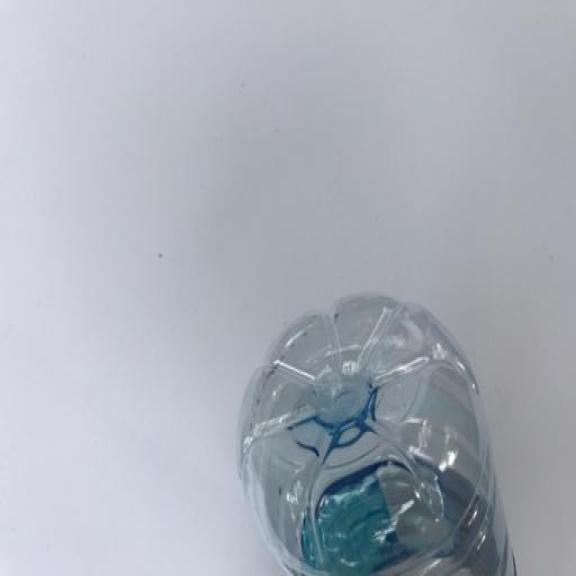Plastik: (230, 284, 522, 576)
